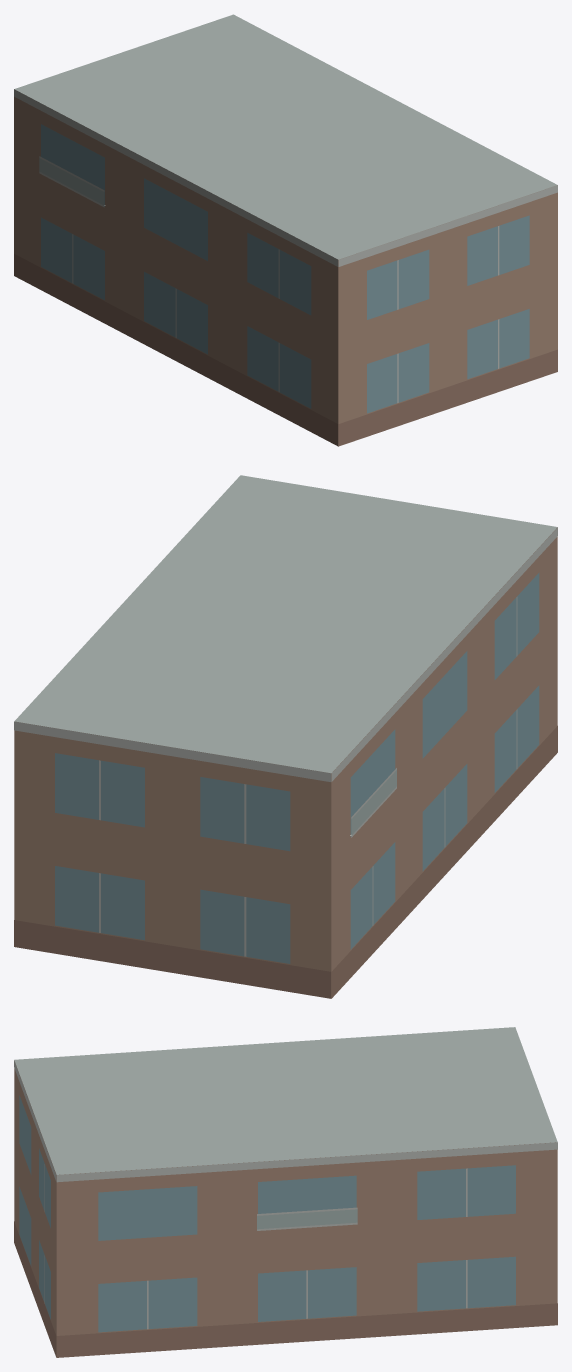
Rendered from survey-upis-32717129.glb.
The picture shows the model from 3 angles, top to bottom: view 1: azimuth 30°, elevation 25°; view 2: azimuth 150°, elevation 25°; view 3: azimuth 270°, elevation 25°; orthographic projection. The views are drawn at different scales.
Parts seen in each view (by area): view 1: survey-upis-32717129.tmp; view 2: survey-upis-32717129.tmp; view 3: survey-upis-32717129.tmp.
Part boxes in pixels (x1,y1,x2,y2): survey-upis-32717129.tmp: (14, 14, 557, 446); survey-upis-32717129.tmp: (14, 475, 557, 998); survey-upis-32717129.tmp: (14, 1027, 557, 1357).
Bounding box in the file's own units: 10.59 × 6.1 × 16.44.
